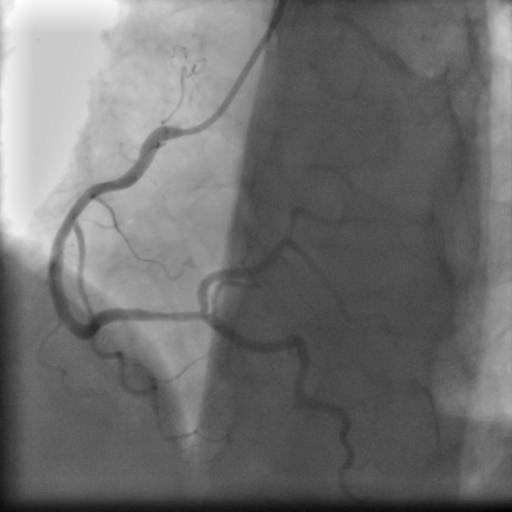Stenosis: (149, 307, 204, 329)
